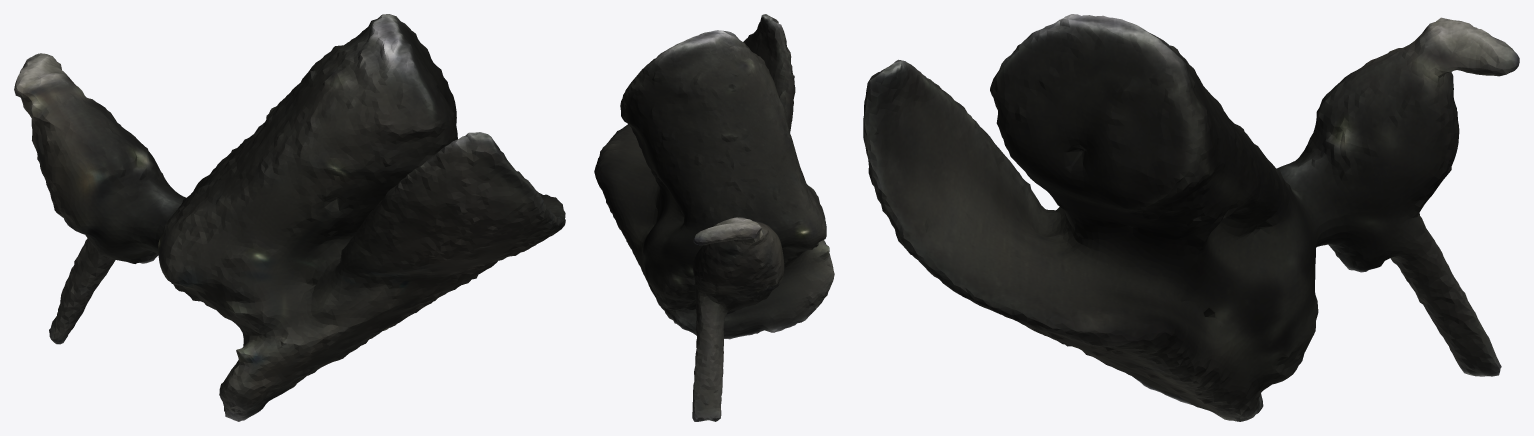
Rendered from IMG_SEG_48.glb.
3 views of the same model, side by side, from view 1: azimuth 30°, elevation 25°; view 2: azimuth 150°, elevation 25°; view 3: azimuth 270°, elevation 25° (orthographic). The views are drawn at different scales.
Bounding box in the file's own units: 0.7643 × 0.7537 × 0.9971.
1 material, 1 textured.
